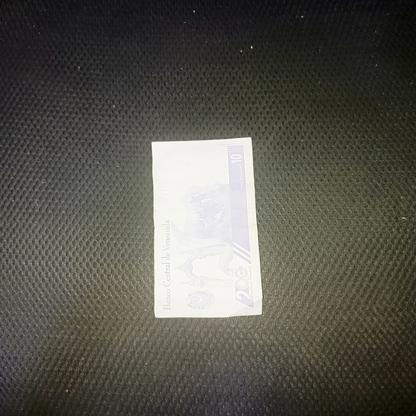ten-back-vef: (152, 140, 263, 318)
